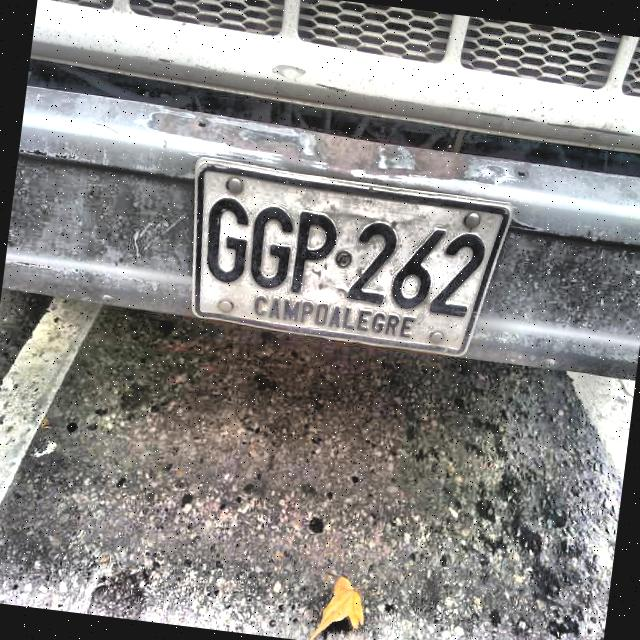2: (424, 229, 492, 322), (342, 218, 402, 308)
6: (385, 223, 449, 314)
G: (245, 199, 298, 293), (203, 193, 253, 286)
P: (286, 207, 340, 300)
